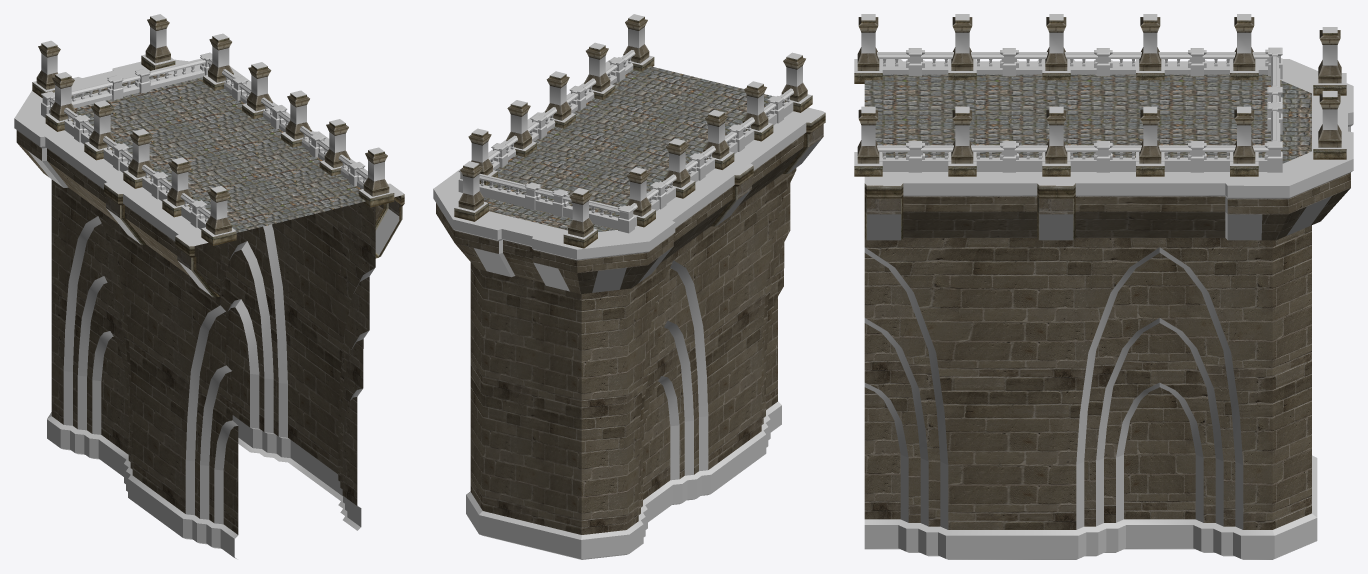
The model's file is SM_Balcony.FBX.
3 views of the same model, side by side, from view 1: azimuth 30°, elevation 25°; view 2: azimuth 150°, elevation 25°; view 3: azimuth 270°, elevation 25° (orthographic). The views are drawn at different scales.
Visible parts, largest first — view 1: SM_Balcony; view 2: SM_Balcony; view 3: SM_Balcony.
Part boxes in pixels (bbox=[...]): SM_Balcony: bbox=[14, 14, 404, 559]; SM_Balcony: bbox=[433, 14, 825, 559]; SM_Balcony: bbox=[854, 14, 1353, 559].
Size of what is drawn, in the model's own units: 1155 by 1925 by 1919.
